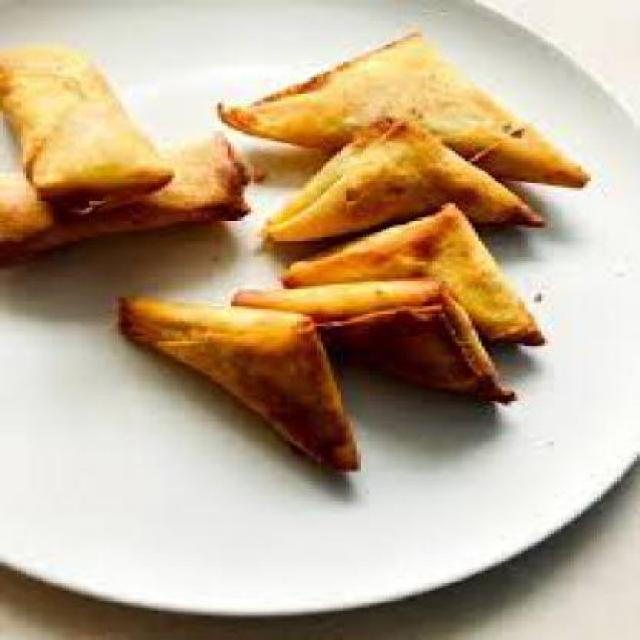samosa: (198, 22, 587, 467)
